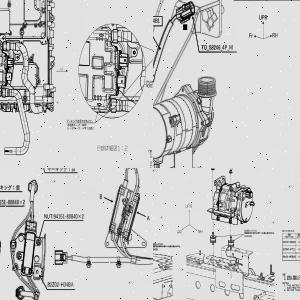PartNumber: (54, 212, 78, 220), (48, 281, 74, 288), (0, 198, 19, 204), (282, 240, 296, 244), (282, 247, 296, 251), (153, 17, 160, 24), (282, 255, 296, 258), (244, 229, 257, 232), (145, 79, 153, 83), (153, 242, 162, 245)
